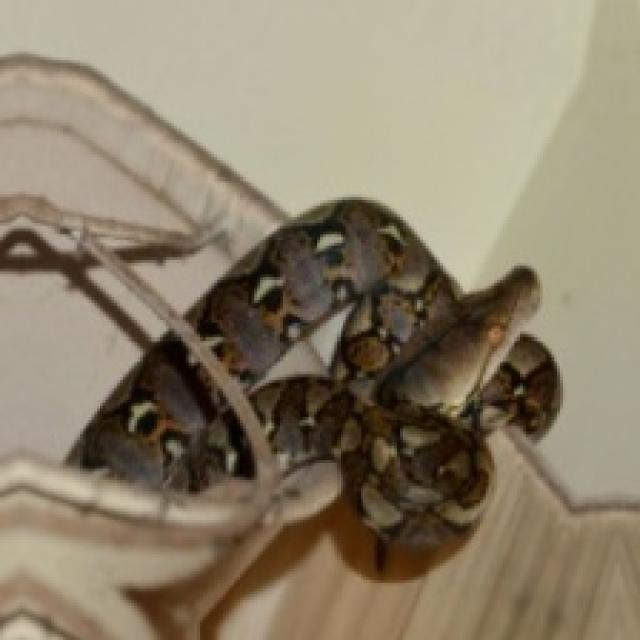reticulated python: (186, 200, 557, 546), (69, 331, 251, 491)
